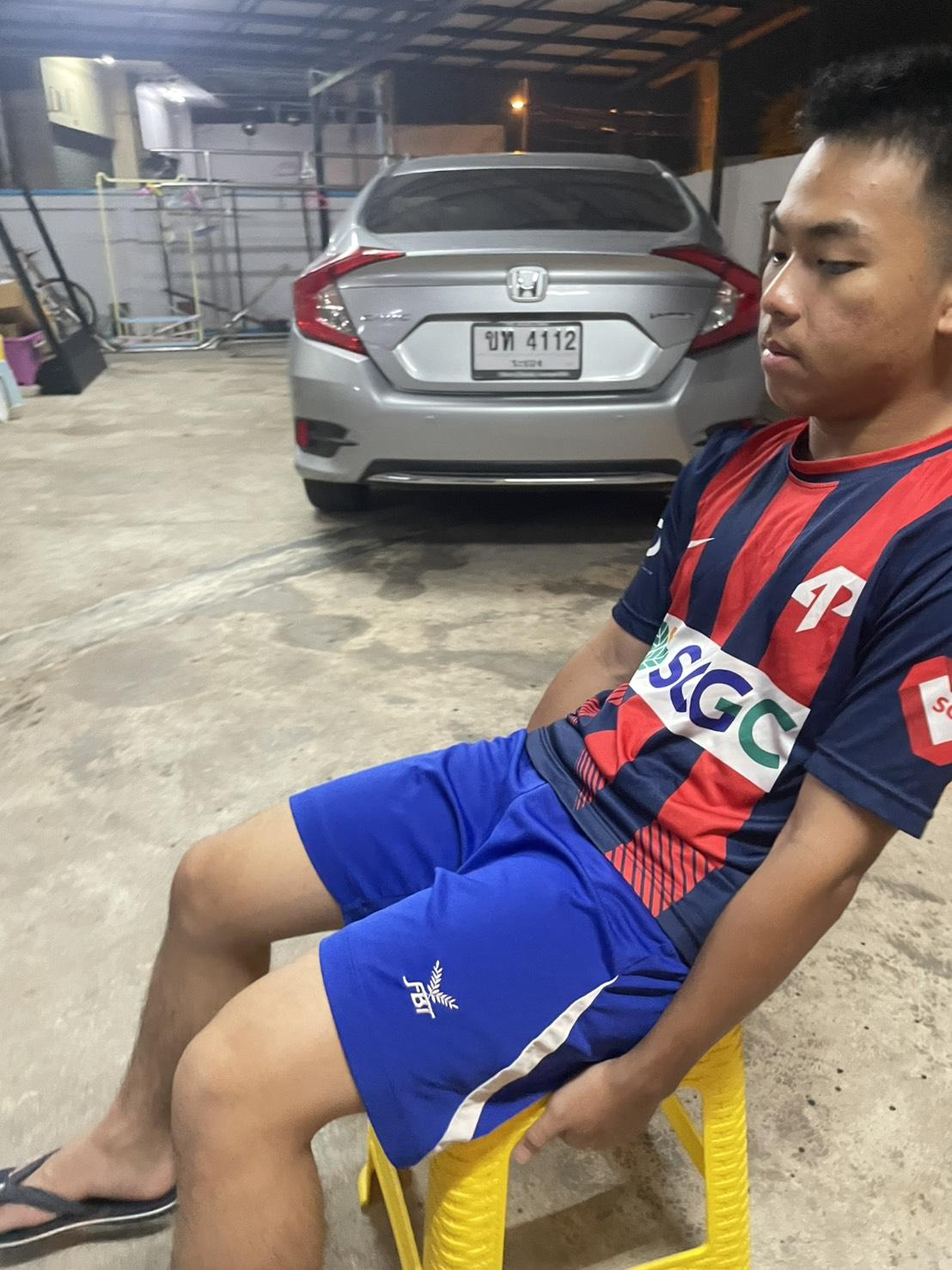BadPosture: (175, 45, 951, 1269)
